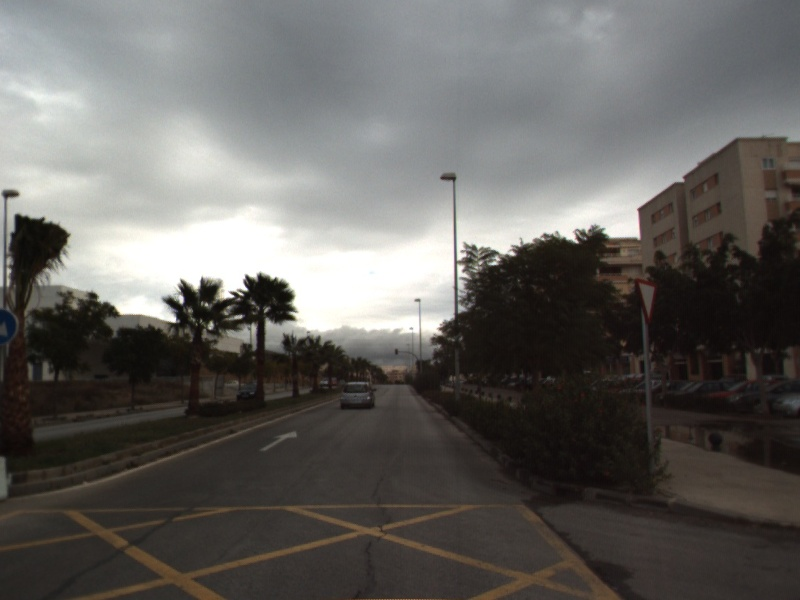STRAIGHT: (257, 429, 299, 453)
